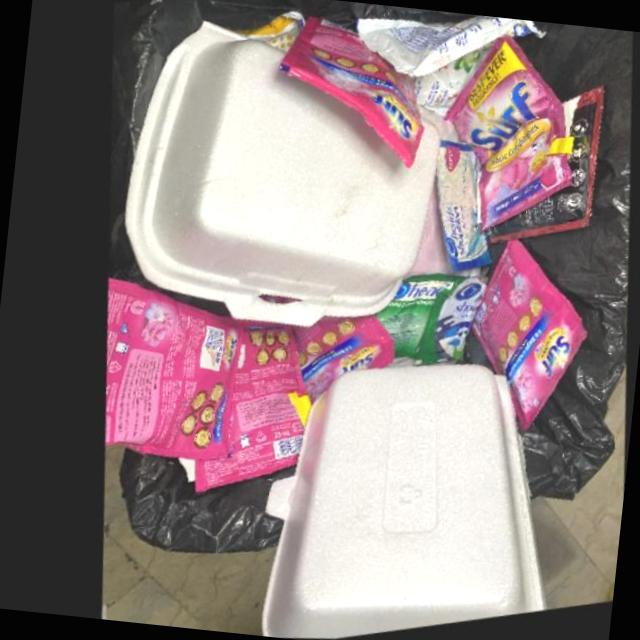goi_nhua_nho: (436, 41, 565, 238), (102, 277, 239, 462), (464, 245, 582, 439), (270, 16, 415, 171), (479, 93, 595, 248), (347, 16, 535, 78), (369, 279, 481, 372), (426, 145, 485, 278)
xop: (118, 16, 432, 331), (263, 370, 543, 640)
